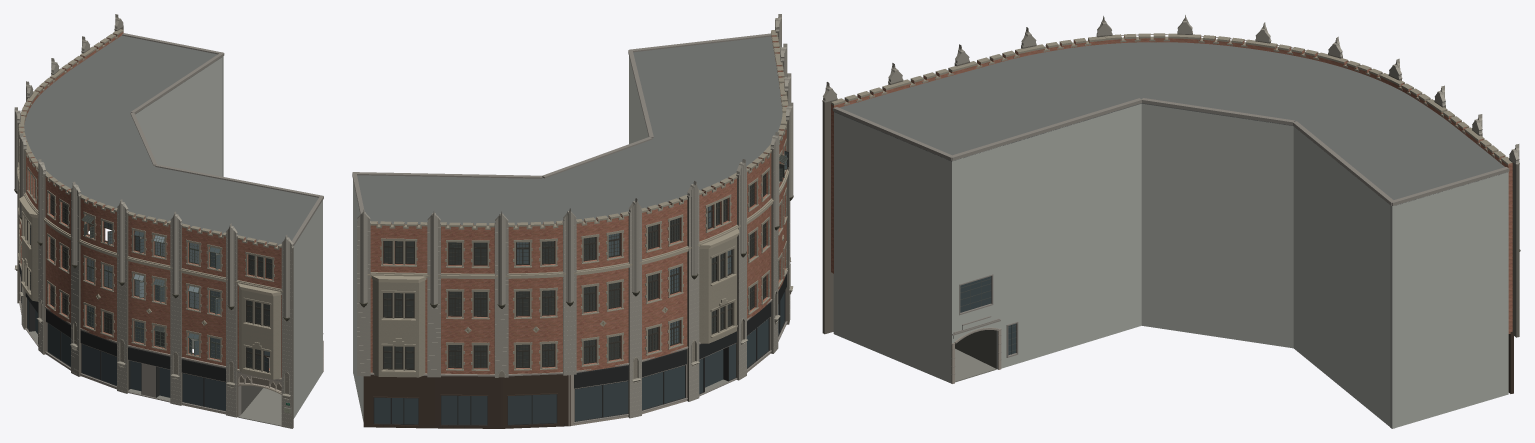
File: jingan-nanyang-continental-court-street-front-lod.glb
3 renders of one model, left to right at view 1: azimuth 30°, elevation 25°; view 2: azimuth 150°, elevation 25°; view 3: azimuth 270°, elevation 25°, orthographic. The views are drawn at different scales.
Parts seen in each view (by area): view 1: 南洋大楼弧形街角、连续尖墩与陕西北路204号券门; view 2: 南洋大楼弧形街角、连续尖墩与陕西北路204号券门; view 3: 南洋大楼弧形街角、连续尖墩与陕西北路204号券门.
Boxes of the visible parts, x1,y1,x2,y2 form: 南洋大楼弧形街角、连续尖墩与陕西北路204号券门: [14, 14, 323, 428]; 南洋大楼弧形街角、连续尖墩与陕西北路204号券门: [352, 14, 793, 428]; 南洋大楼弧形街角、连续尖墩与陕西北路204号券门: [822, 15, 1520, 428].
Bounding box in the file's own units: 26.62 × 18.41 × 46.76.
Materials: 32 (9 with a texture image).
